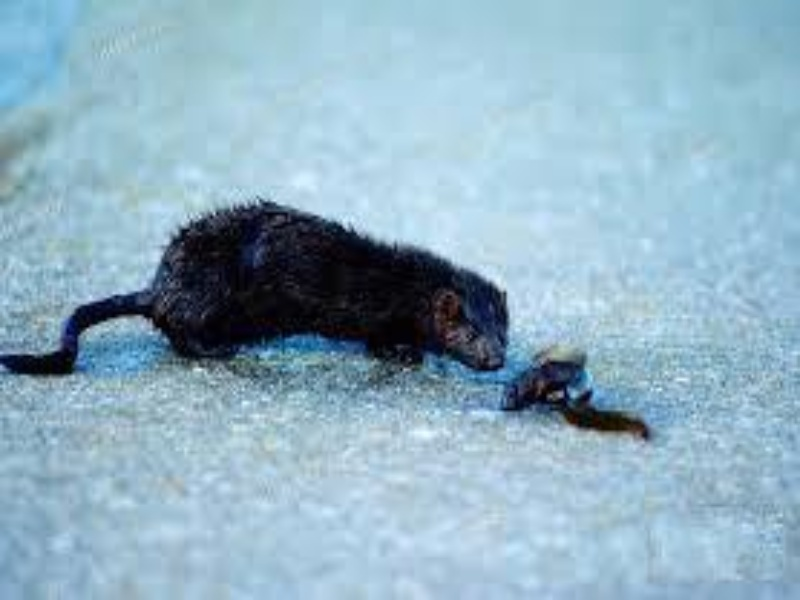minkish: (1, 197, 513, 385)
